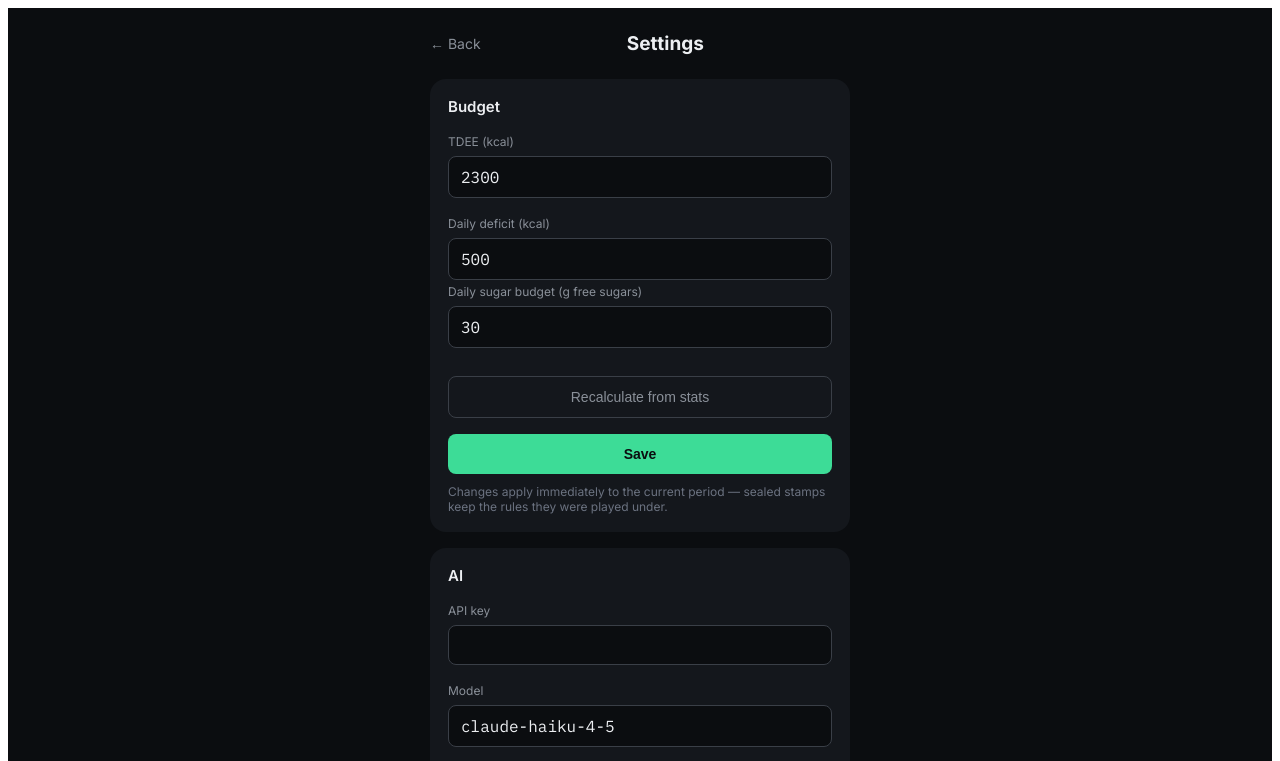
Test: recalculate-from-stats expander is shown and reuses Mifflin fields when stats is present
The image size is (1280, 761).
Click the button "Recalculate from stats" at (640, 397), box top-left (448, 376), bottom-right (832, 418)
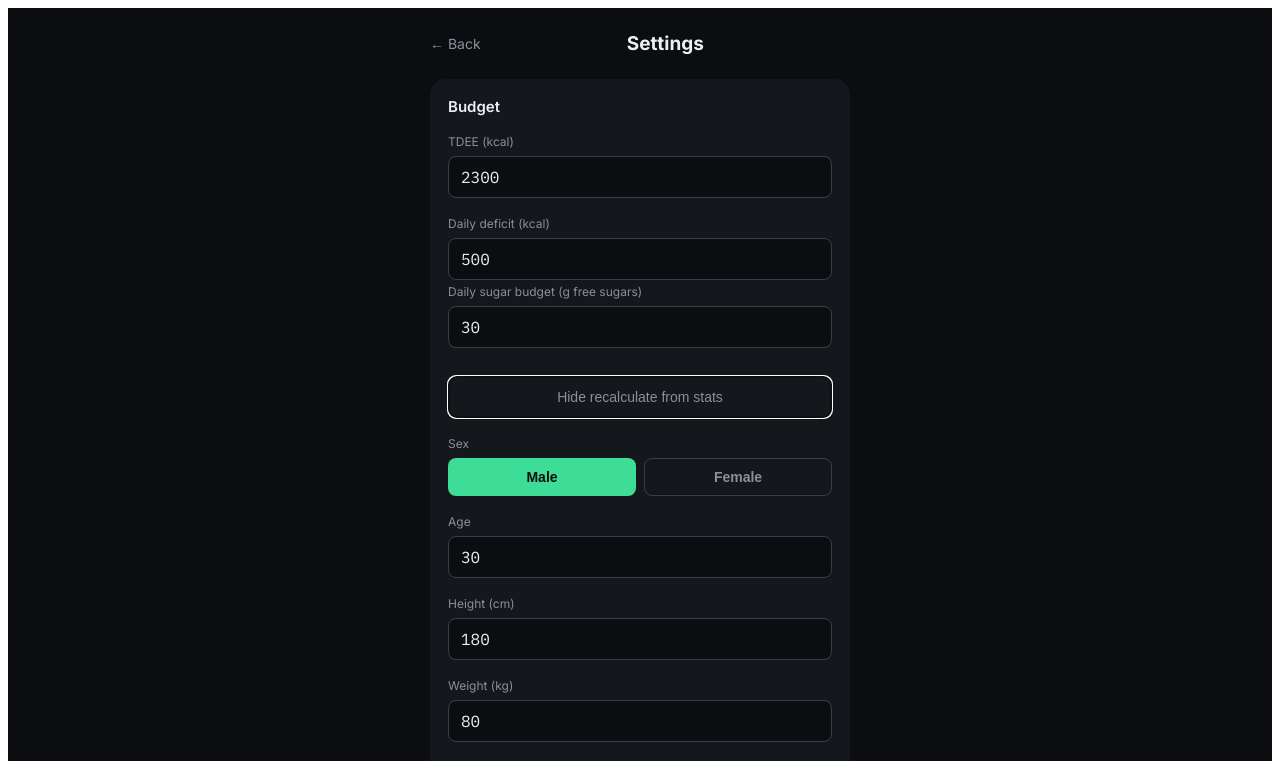
Expected: the number field labelled "Age" holds "30", top-left (448, 536), bottom-right (832, 578)
Expected: the number field labelled "Height (cm)" holds "180", top-left (448, 618), bottom-right (832, 660)
Expected: the number field labelled "Weight (kg)" holds "80", top-left (448, 700), bottom-right (832, 742)
